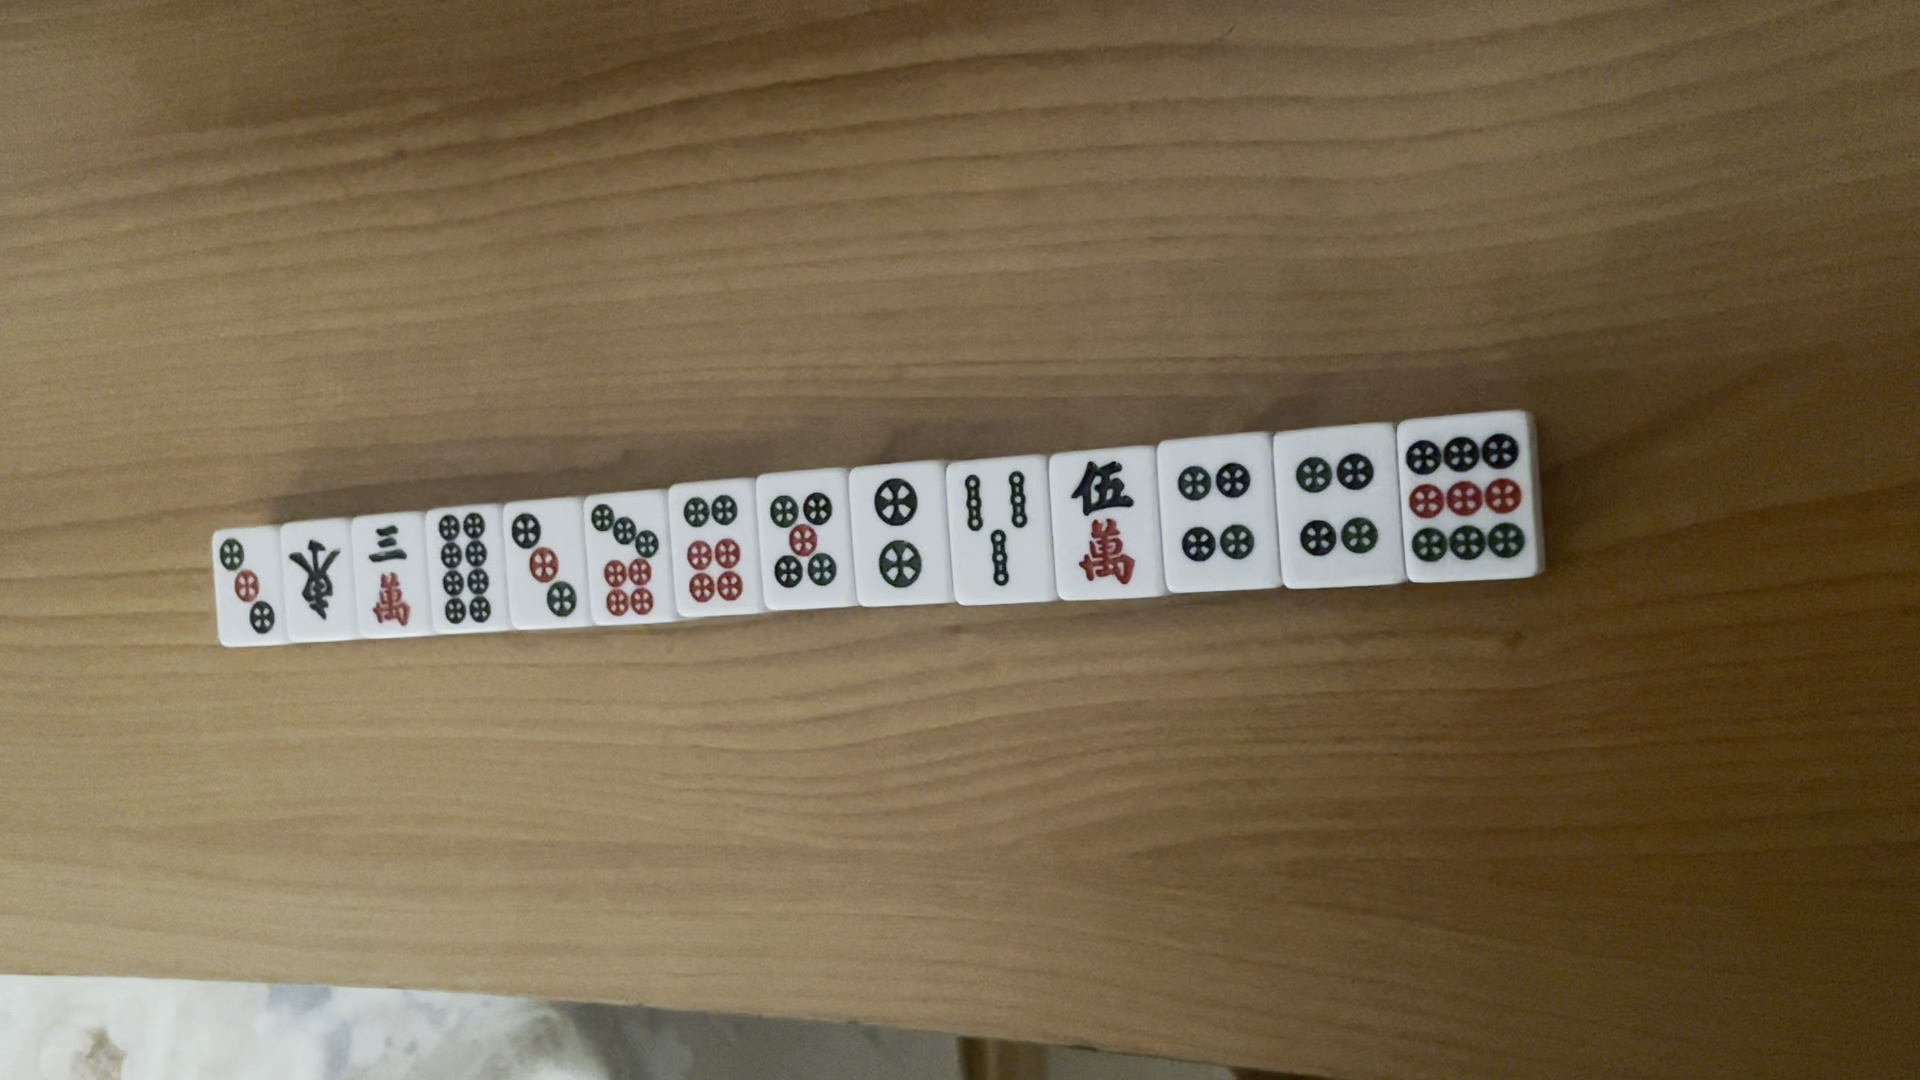b-3: (955, 463, 1035, 593)
c-3: (365, 520, 415, 632)
c-5: (1068, 456, 1145, 591)
d-2: (868, 479, 928, 592)
d-3: (509, 512, 578, 620), (214, 535, 278, 641)
d-4: (1286, 454, 1386, 572), (1168, 459, 1261, 579)
d-5: (767, 491, 841, 593)
d-6: (674, 487, 752, 607)
d-7: (585, 498, 665, 624)
d-8: (435, 512, 495, 632)
d-9: (1400, 434, 1526, 579)
honors-east: (286, 534, 344, 622)
